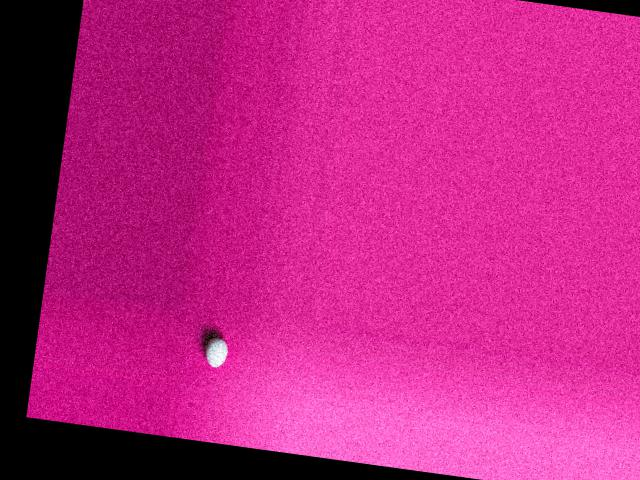egg: (204, 336, 230, 368)
